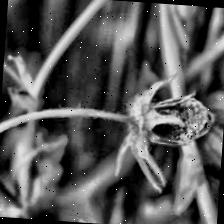Gray Mold: (106, 68, 216, 196)
